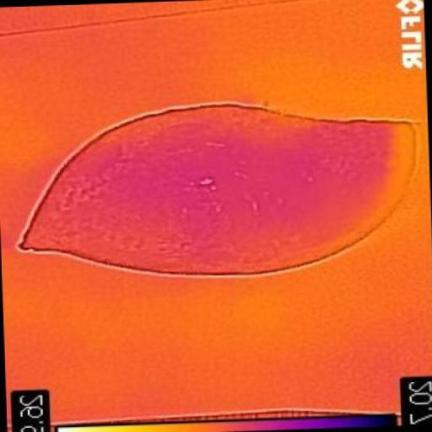mango: (19, 105, 414, 273)
